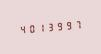four: (17, 22, 25, 36)
nine: (62, 18, 70, 32), (53, 19, 61, 32)
one: (35, 21, 43, 34)
seven: (71, 18, 79, 31)
three: (44, 20, 52, 33)
zero: (26, 22, 34, 35)
